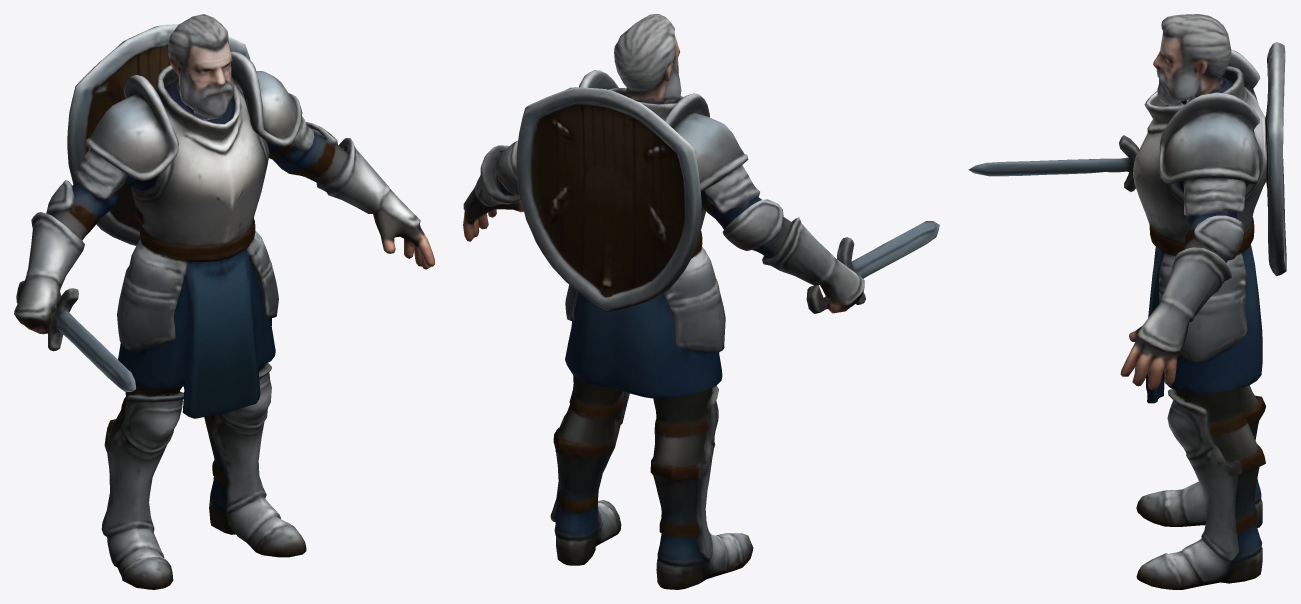
File: old-knight.glb
3 renders of one model, left to right at view 1: azimuth 30°, elevation 25°; view 2: azimuth 150°, elevation 25°; view 3: azimuth 270°, elevation 25°, orthographic.
Visible parts, largest first — view 1: geometry_0; view 2: geometry_0; view 3: geometry_0.
Part boxes in pixels (x1,y1,x2,y2): geometry_0: (14, 14, 434, 589); geometry_0: (463, 14, 939, 589); geometry_0: (968, 14, 1286, 589).
Bounding box in the file's own units: 0.7844 × 1 × 0.5403.
Materials: 1 (1 with a texture image).
